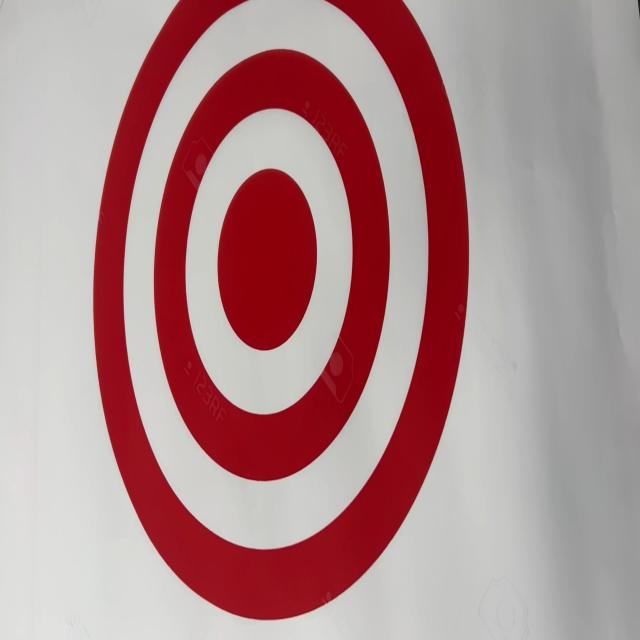target_red: (80, 3, 497, 638)
